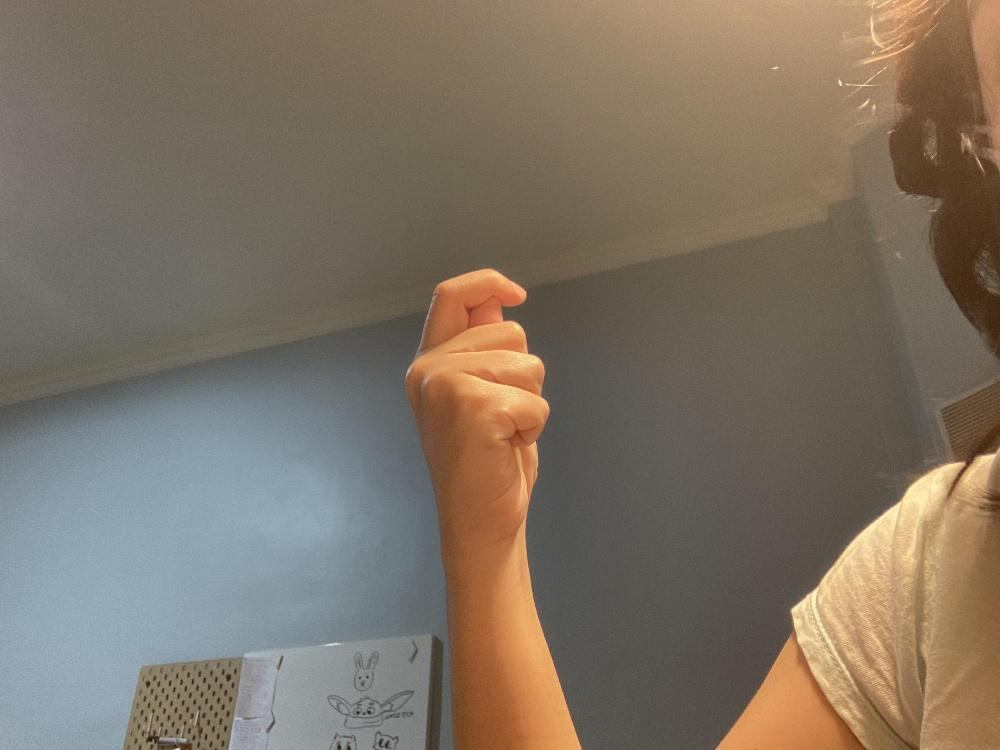t: (404, 267, 549, 540)
